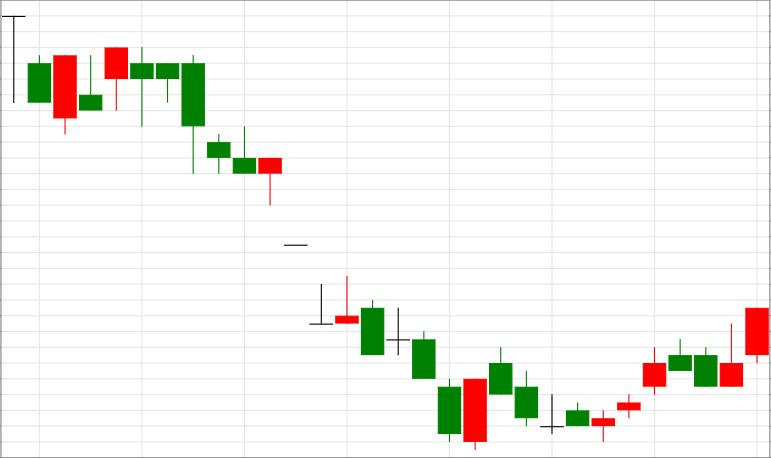bullish_engulfing_rise: (362, 300, 487, 450)
